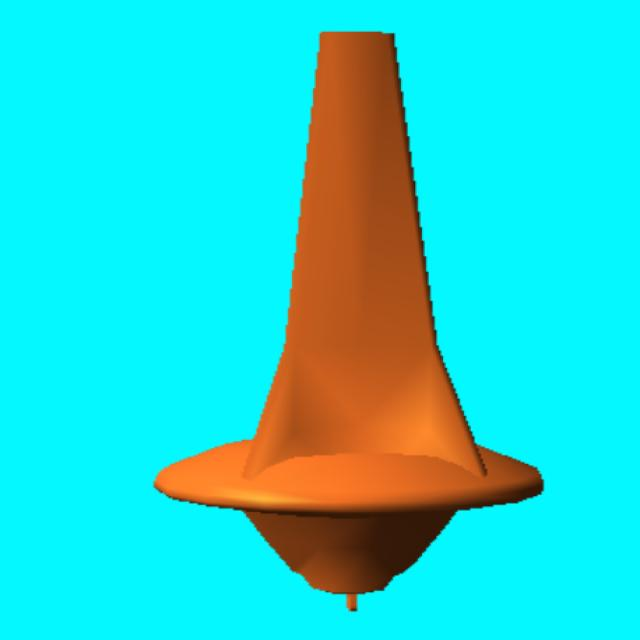OrangeBuoy: (154, 32, 543, 608)
